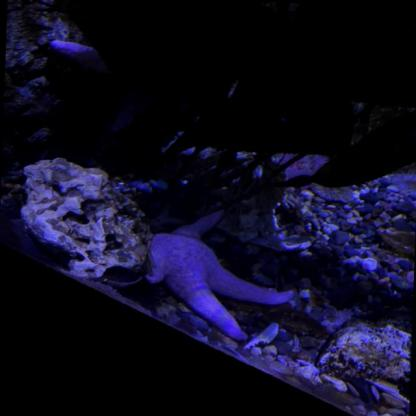starfish: (143, 205, 298, 344)
